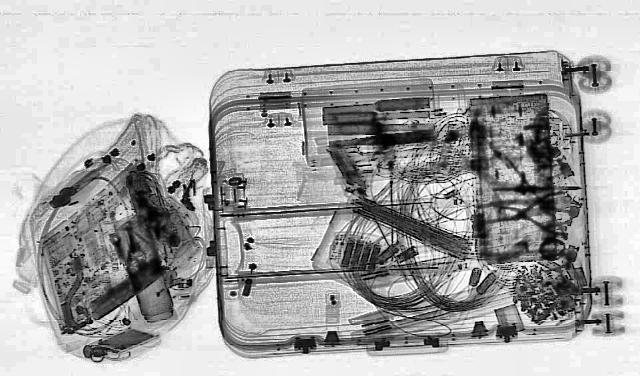Pliers: (493, 190, 571, 234)
